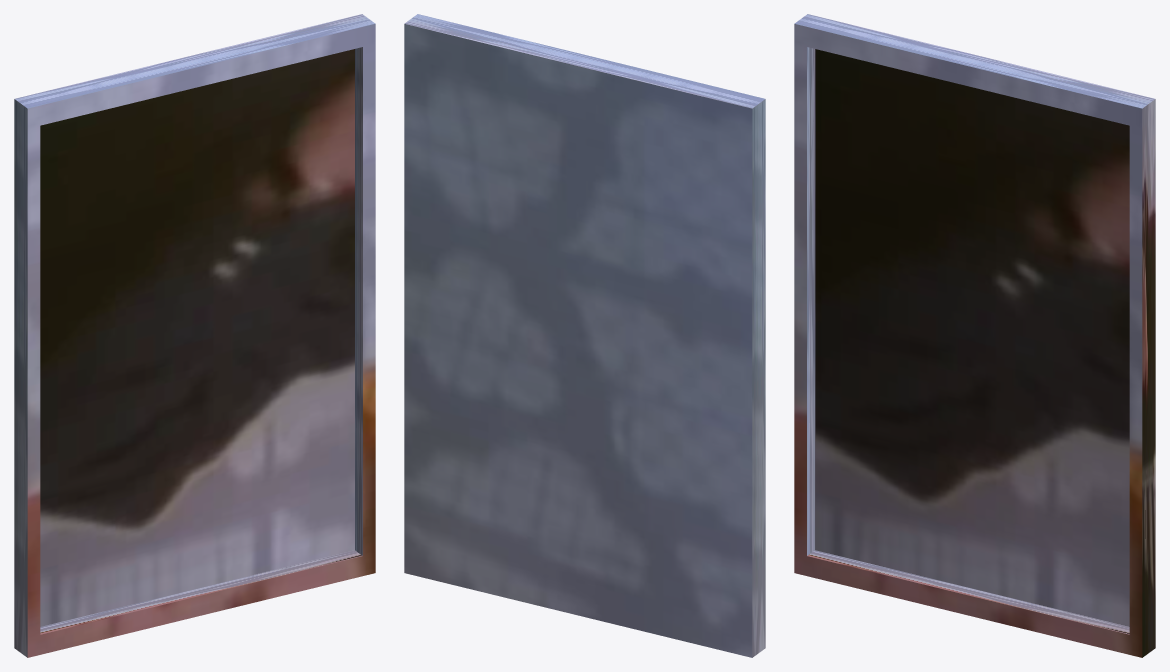
File: PhotoFrame.obj
3 renders of one model, left to right at view 1: azimuth 30°, elevation 25°; view 2: azimuth 150°, elevation 25°; view 3: azimuth 330°, elevation 25°, orthographic.
Visible parts, largest first — view 1: photoFrame; view 2: photoFrame; view 3: photoFrame.
Part boxes in pixels (x1=…): photoFrame: x1=14, y1=14, x2=375, y2=657; photoFrame: x1=404, y1=14, x2=765, y2=657; photoFrame: x1=794, y1=14, x2=1155, y2=657.
Size of the model in its own units: 3.94 by 5.94 by 0.2612.
